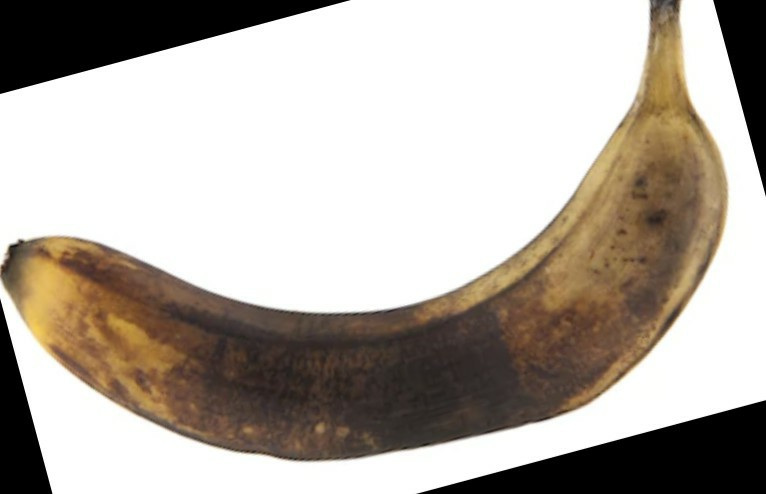rotten_banana: (17, 21, 729, 455)
